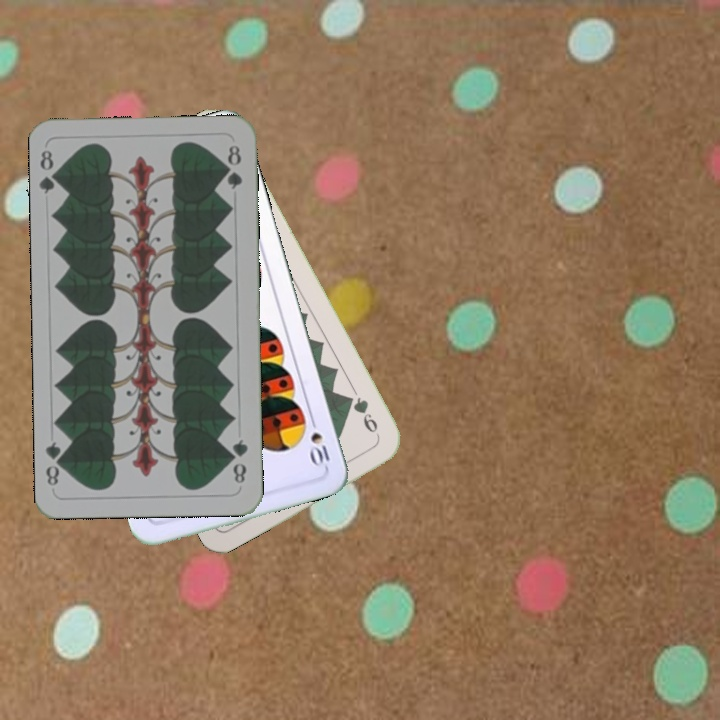G8: (36, 146, 63, 196), (227, 435, 251, 486)
G9: (342, 391, 381, 436)
S10: (306, 412, 332, 470)
